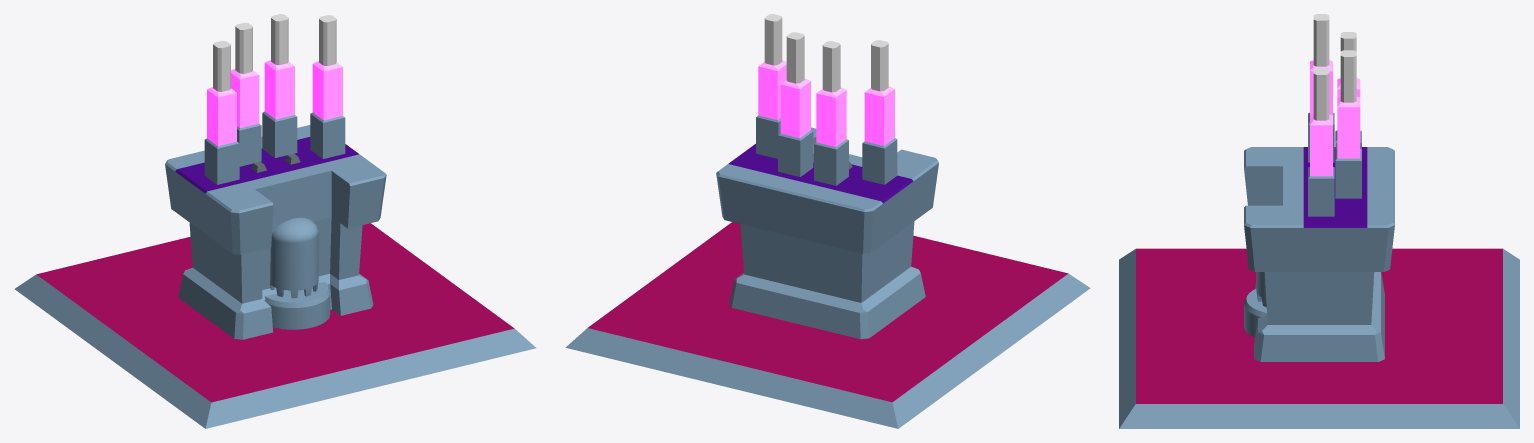
Rendered from 14_aaltar_5.fbx.
3 views of the same model, side by side, from view 1: azimuth 30°, elevation 25°; view 2: azimuth 150°, elevation 25°; view 3: azimuth 270°, elevation 25° (orthographic). The views are drawn at different scales.
Parts seen in each view (by area): view 1: bottom5; view 2: bottom5; view 3: bottom5.
Boxes of the visible parts, x1,y1,x2,y2 form: bottom5: (14, 14, 536, 428); bottom5: (565, 14, 1090, 428); bottom5: (1119, 14, 1519, 428).
Bounding box in the file's own units: 78.73 × 65.02 × 78.73.
